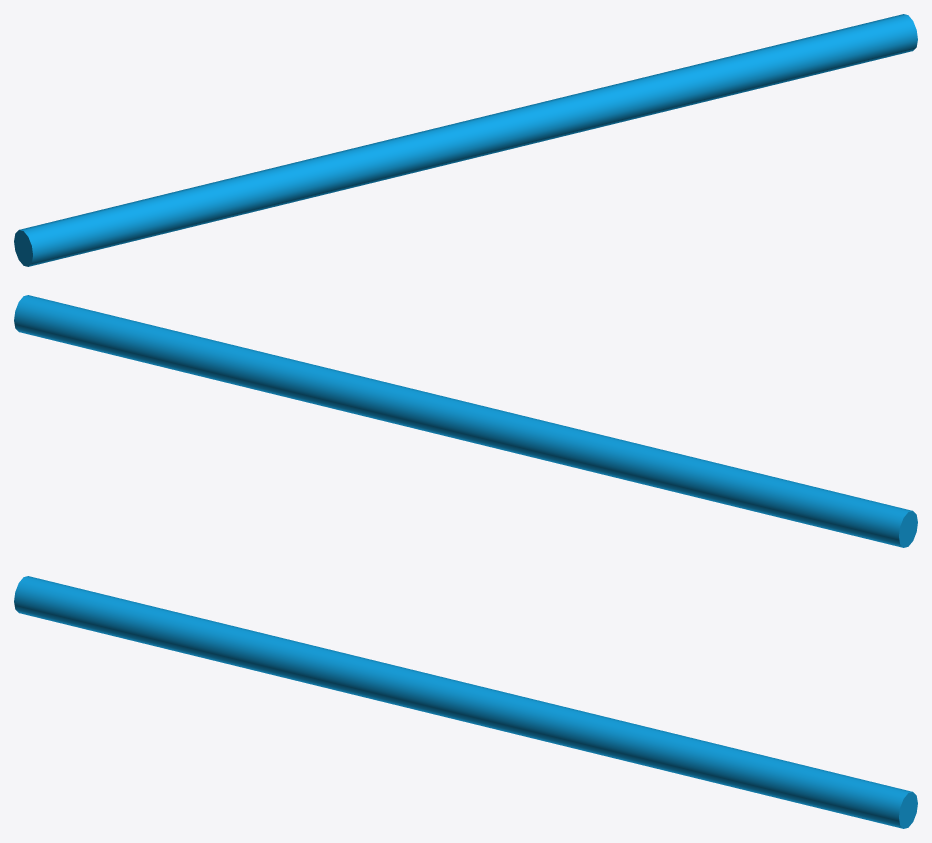
Rendered from rocker_panels.glb.
3 renders of one model, top to bottom at view 1: azimuth 30°, elevation 25°; view 2: azimuth 150°, elevation 25°; view 3: azimuth 330°, elevation 25°, orthographic.
Visible parts, largest first — view 1: Rocker_Panel_Sill_LH, Rocker_Panel_Sill_RH; view 2: Rocker_Panel_Sill_LH, Rocker_Panel_Sill_RH; view 3: Rocker_Panel_Sill_RH, Rocker_Panel_Sill_LH.
Part boxes in pixels (box(x1,y1,x2,y2)): Rocker_Panel_Sill_LH: box(14, 102, 560, 266); Rocker_Panel_Sill_RH: box(376, 14, 917, 179); Rocker_Panel_Sill_LH: box(371, 382, 917, 547); Rocker_Panel_Sill_RH: box(14, 295, 553, 451); Rocker_Panel_Sill_RH: box(371, 663, 917, 828); Rocker_Panel_Sill_LH: box(14, 576, 554, 733).
Bounding box in the file's own units: 4.27 × 0.16 × 0.16.
